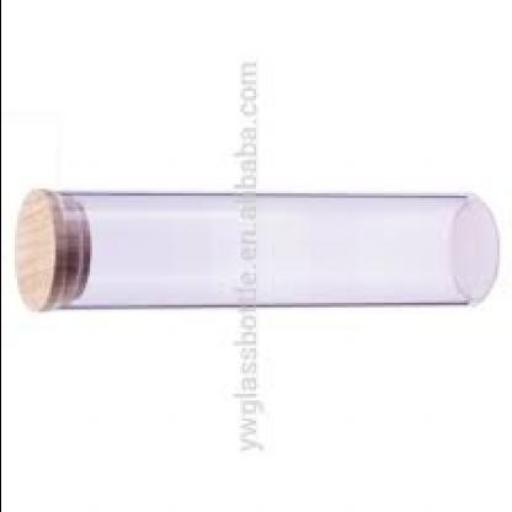glass: (48, 196, 494, 311)
